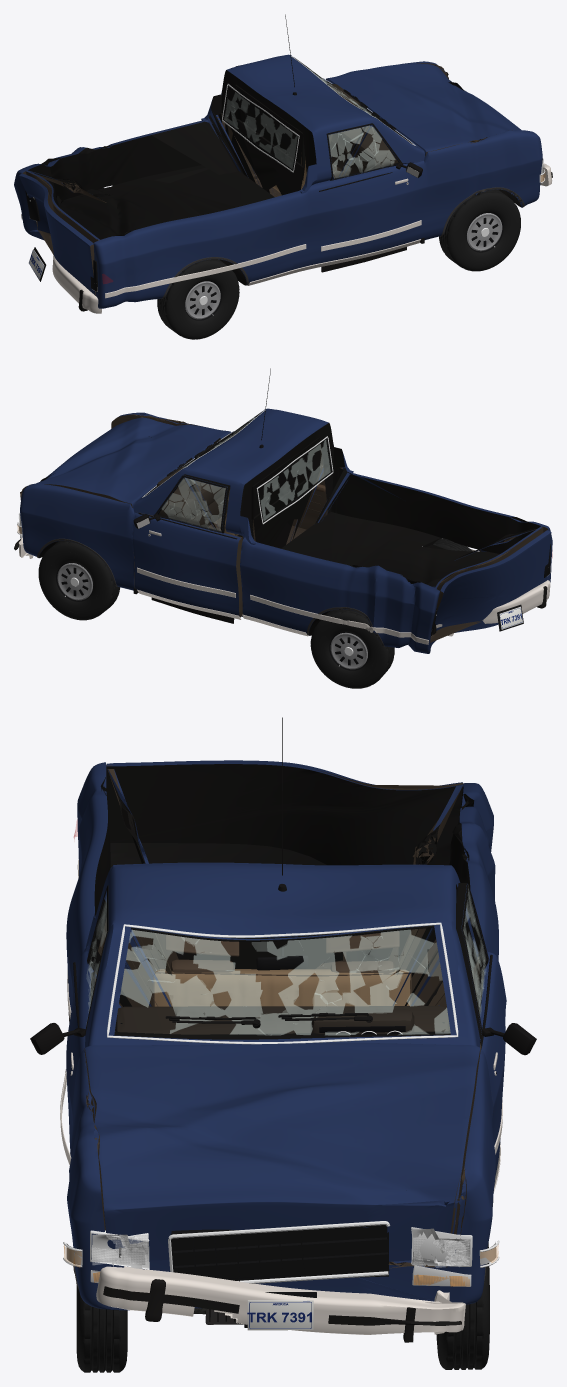
Rendered from pickup87_rear_corner_d1.glb.
The picture shows the model from 3 angles, top to bottom: view 1: azimuth 30°, elevation 25°; view 2: azimuth 150°, elevation 25°; view 3: azimuth 270°, elevation 25°; orthographic projection. The views are drawn at different scales.
Parts seen in each view (by area): view 1: Body, Hood, Wheel_FR_mesh, Wheel_RR_mesh, Door_FR, Tailgate, Glass, Interior, Trim, Trim_FR, Glass_FR, Bumper_R (+1 smaller); view 2: Body, Hood, Door_FL, Tailgate, Wheel_FL_mesh, Wheel_RL_mesh, Glass, Interior, Trim, Trim_FL, Glass_FL, Bumper_R (+2 smaller); view 3: Body, Hood, Interior, Glass, Ends, Bumper_F, Door_FL, Wheel_FR_mesh, Wheel_FL_mesh, Lamps_Head, Trim_FL, Trim_FR (+4 smaller).
Part boxes in pixels (<box>): Body: <box>14,54,542,308</box>; Hood: <box>326,64,521,156</box>; Wheel_FR_mesh: <box>439,189,520,271</box>; Wheel_RR_mesh: <box>157,259,239,339</box>; Door_FR: <box>312,123,423,262</box>; Tailgate: <box>19,173,95,295</box>; Glass: <box>222,56,415,172</box>; Interior: <box>273,84,396,192</box>; Trim: <box>21,14,524,298</box>; Trim_FR: <box>313,123,422,272</box>; Glass_FR: <box>328,126,399,180</box>; Bumper_R: <box>52,255,101,313</box>; Body: <box>20,408,552,653</box>; Hood: <box>36,417,230,507</box>; Door_FL: <box>132,474,242,617</box>; Tailgate: <box>430,530,551,642</box>; Wheel_FL_mesh: <box>38,541,120,620</box>; Wheel_RL_mesh: <box>310,609,394,688</box>; Glass: <box>142,410,333,524</box>; Interior: <box>157,467,234,535</box>; Trim: <box>37,368,481,646</box>; Trim_FL: <box>133,475,241,623</box>; Glass_FL: <box>157,475,227,533</box>; Bumper_R: <box>432,580,550,634</box>; Body: <box>66,762,498,1310</box>; Hood: <box>84,1043,480,1268</box>; Interior: <box>115,931,449,1034</box>; Glass: <box>107,922,458,1044</box>; Ends: <box>63,1221,499,1330</box>; Bumper_F: <box>96,1266,465,1342</box>; Door_FL: <box>456,883,506,1175</box>; Wheel_FR_mesh: <box>76,1285,127,1372</box>; Wheel_FL_mesh: <box>436,1243,489,1369</box>; Lamps_Head: <box>91,1234,470,1267</box>; Trim_FL: <box>461,884,536,1192</box>; Trim_FR: <box>30,885,108,1165</box>.
Size of the model in its own units: 5 by 2.58 by 2.34.
34 materials, 5 textured.
